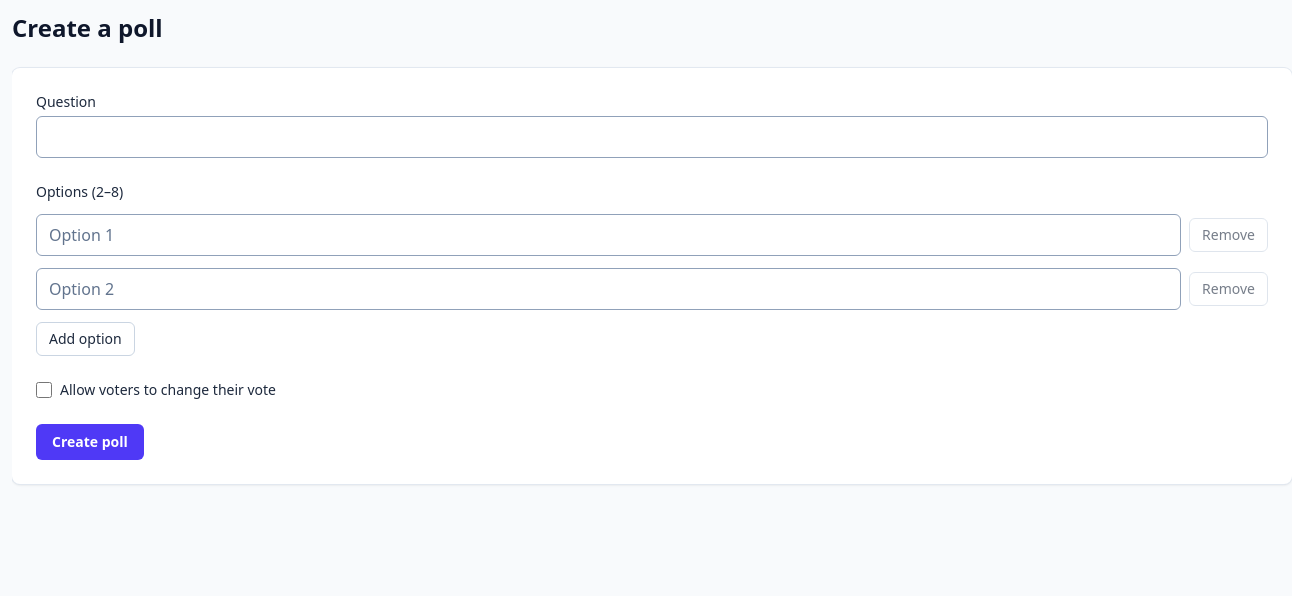
Test case: CreatePollPage › shows server validation details next to the field
Type "Tabs or spaces?" into the field labelled "Question" at (652, 137), box [36,116,1268,158]
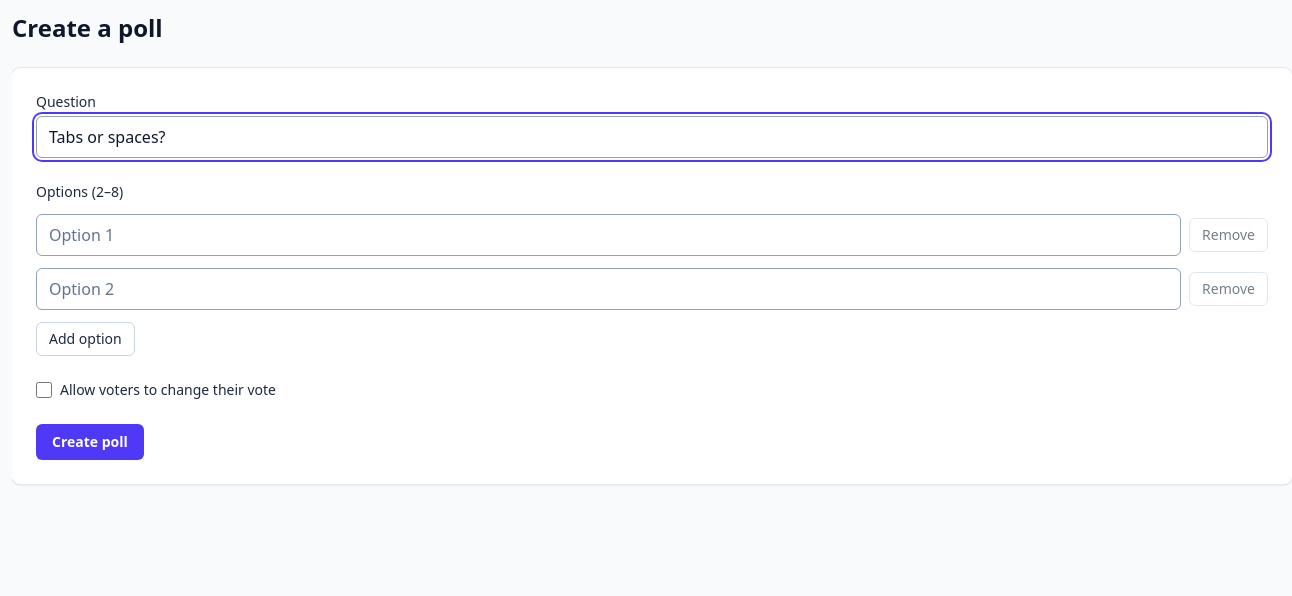
Type "Tabs" into the field labelled "Option 1" at (609, 235), box [36,214,1181,256]
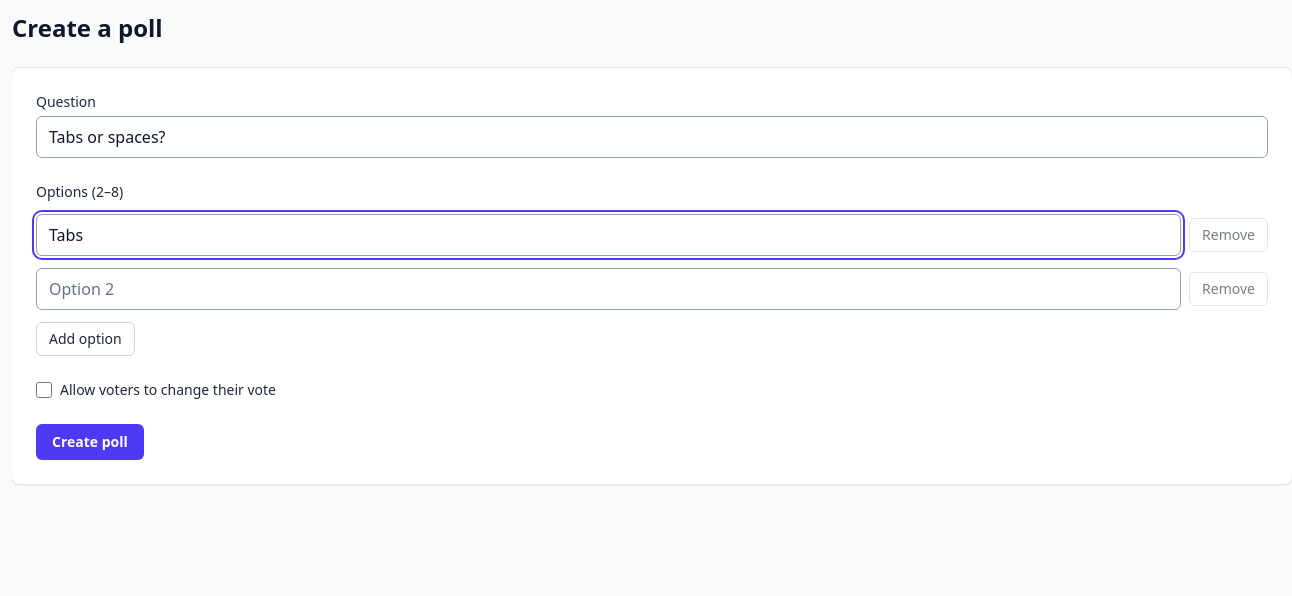
Type "Spaces" into the field labelled "Option 2" at (609, 289), box [36,268,1181,310]
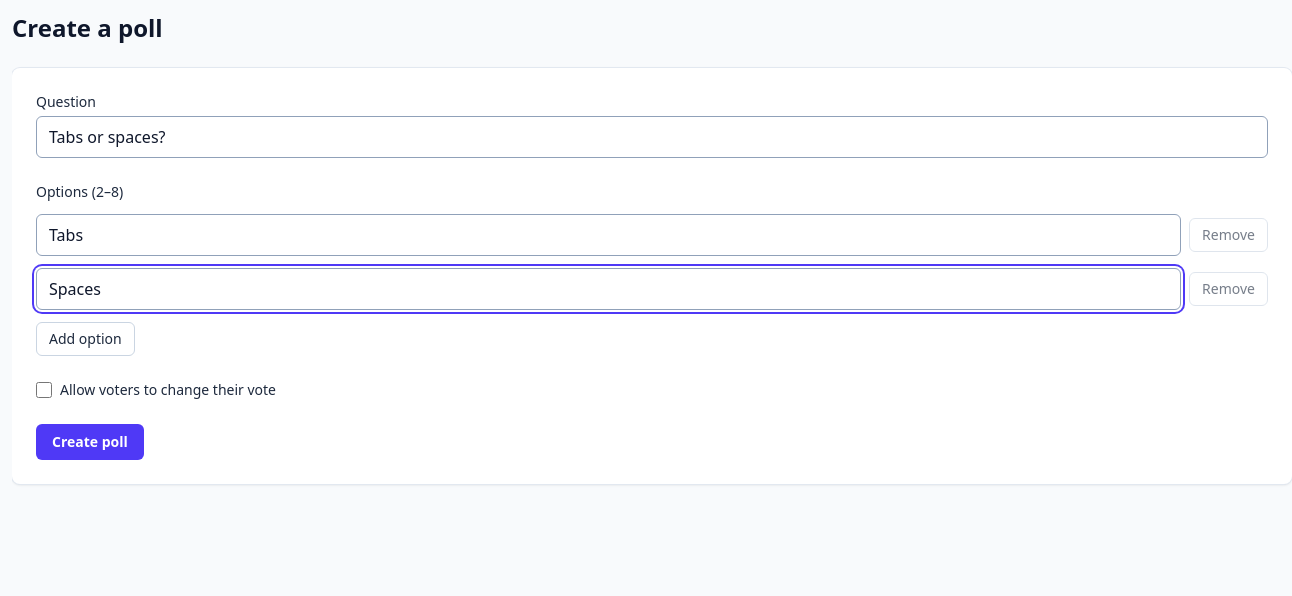
Click the button "Create poll" at (90, 442), box [36,424,144,460]
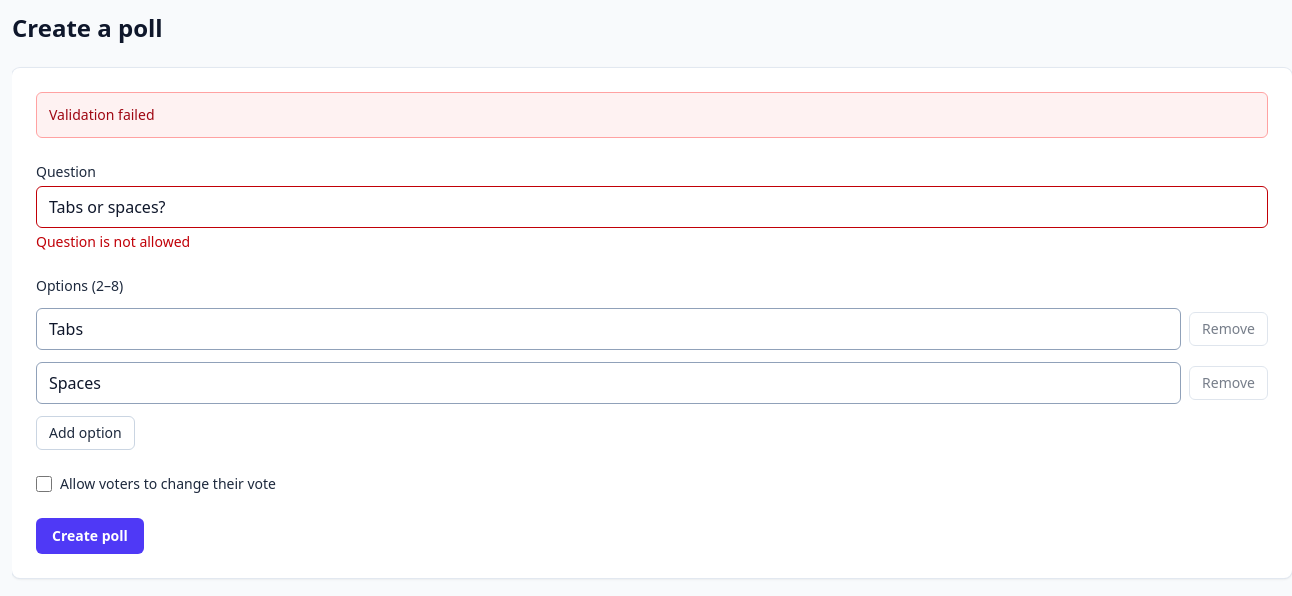
Check: the message reads "Validation failed", box [49,105,154,124]
